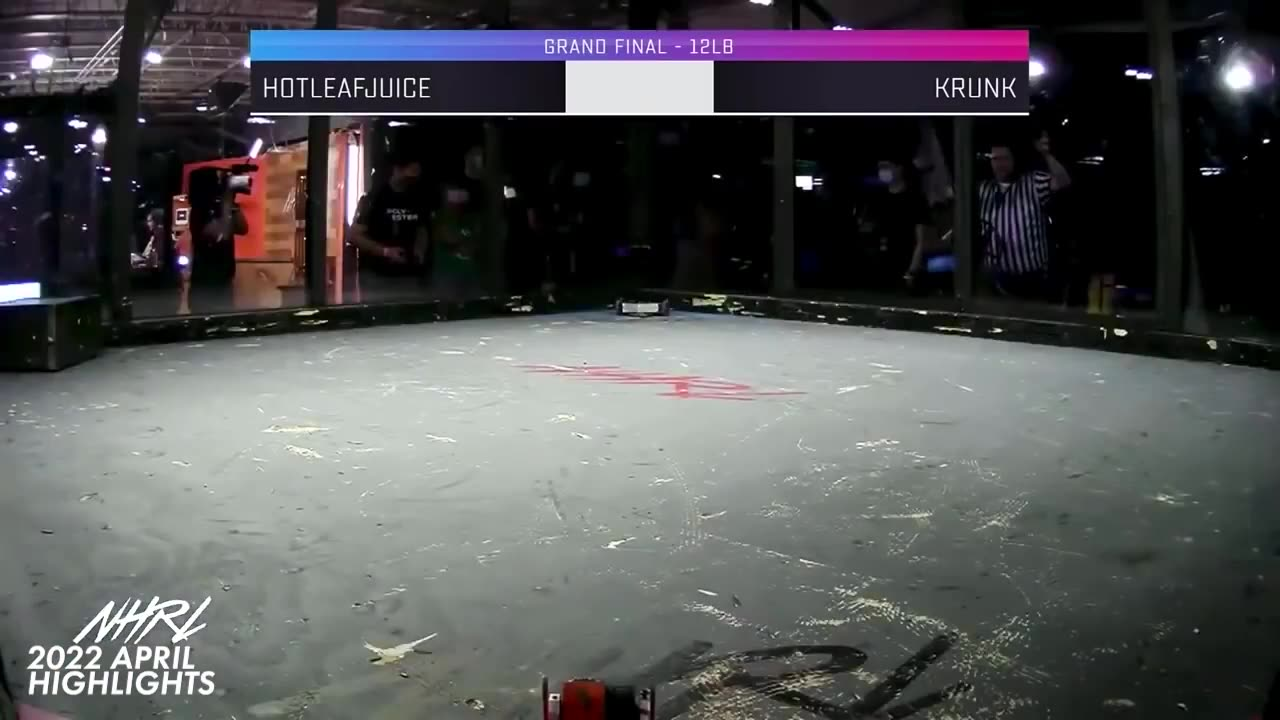combatbot: (540, 679, 655, 720), (617, 298, 672, 317)
housebot: (0, 293, 102, 372)
